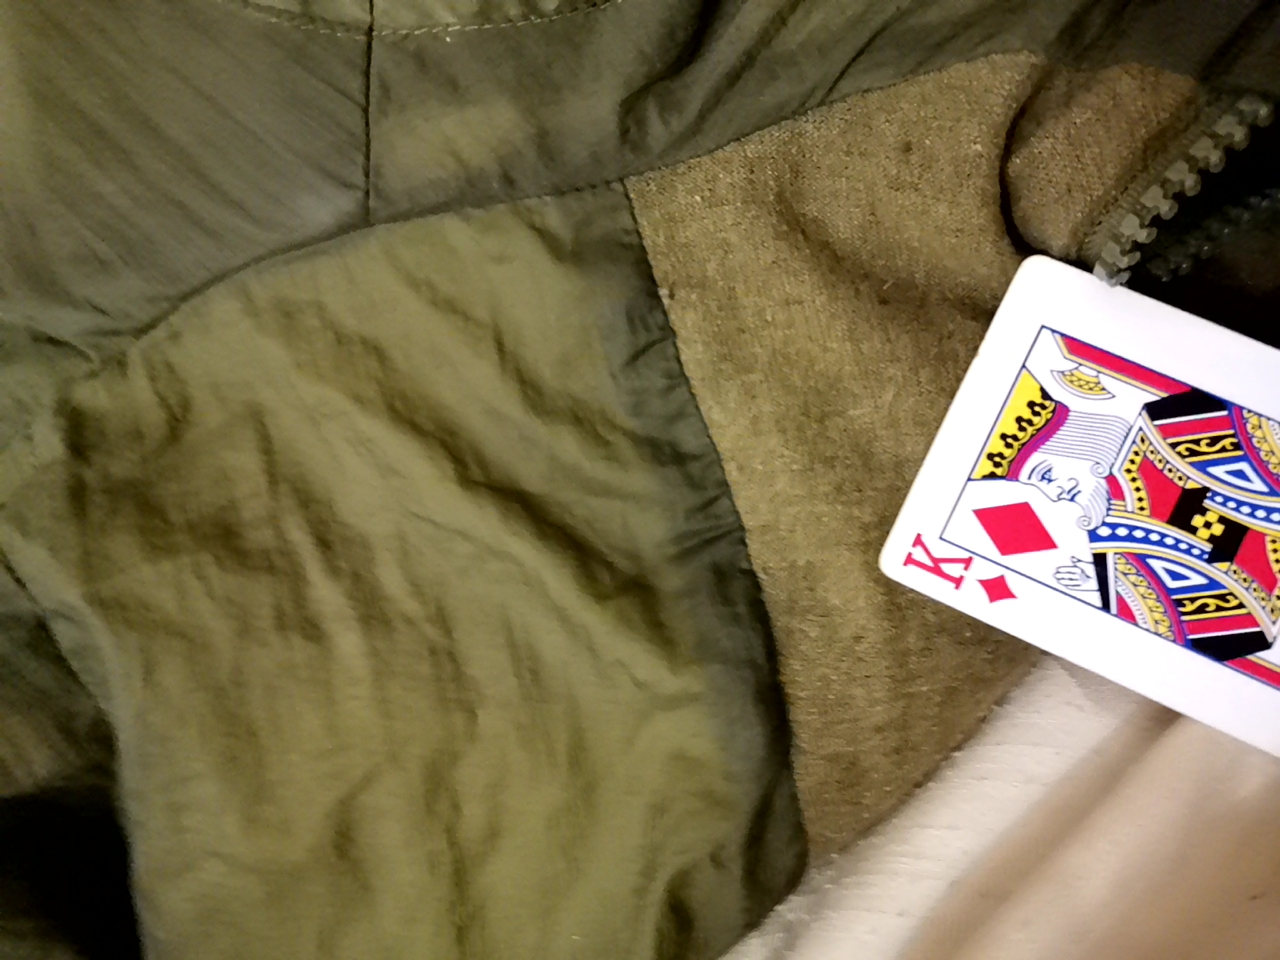fk k: (868, 237, 1280, 801)
